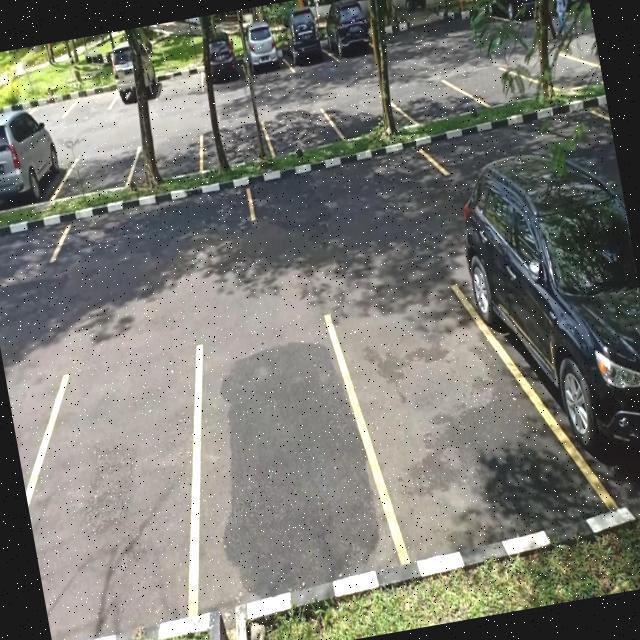empty: (334, 271, 552, 563), (172, 310, 384, 600), (7, 356, 216, 640), (242, 134, 449, 226), (48, 182, 260, 270), (58, 143, 140, 200), (262, 103, 338, 159), (329, 89, 405, 144), (396, 74, 472, 128), (198, 118, 272, 172), (133, 130, 207, 183), (60, 78, 116, 120), (152, 60, 206, 102)
occupied: (492, 171, 640, 529), (0, 120, 65, 215), (105, 44, 163, 110), (194, 32, 249, 92), (238, 21, 292, 81)
